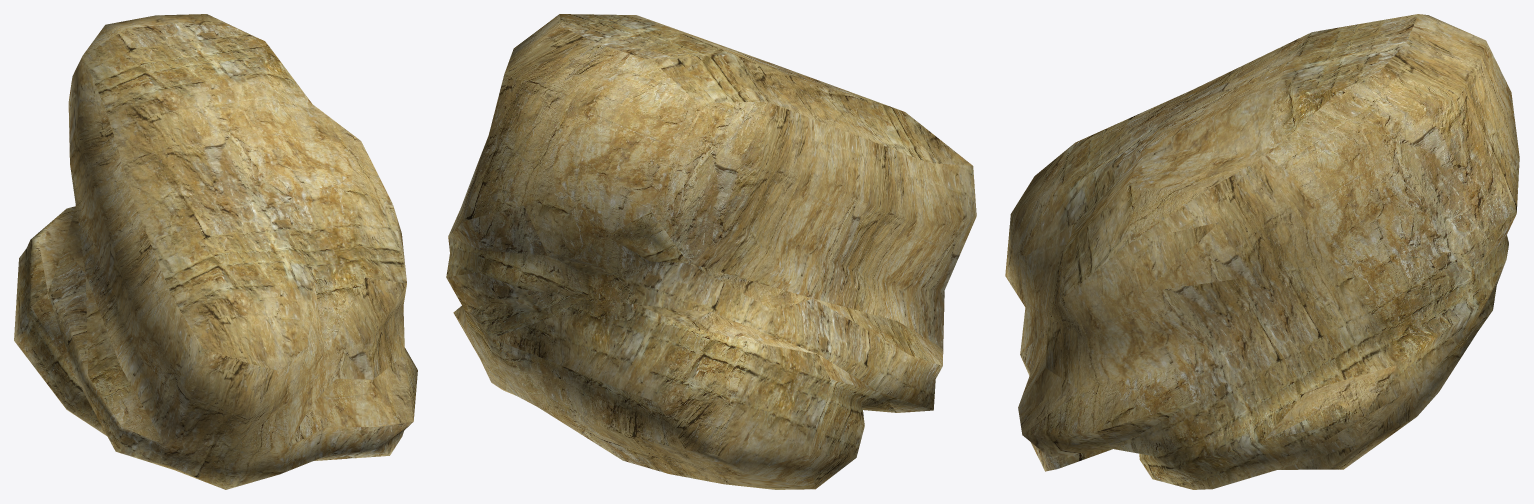
File: Boulder11.dae
The picture shows the model from 3 angles, left to right: view 1: azimuth 30°, elevation 25°; view 2: azimuth 150°, elevation 25°; view 3: azimuth 270°, elevation 25°; orthographic projection. The views are drawn at different scales.
Visible parts, largest first — view 1: rock0; view 2: rock0; view 3: rock0.
Part boxes in pixels (x1=…): rock0: x1=14, y1=14, x2=417, y2=489; rock0: x1=446, y1=14, x2=976, y2=489; rock0: x1=1005, y1=14, x2=1519, y2=489.
Bounding box in the file's own units: 1.4 × 1.78 × 1.67.
